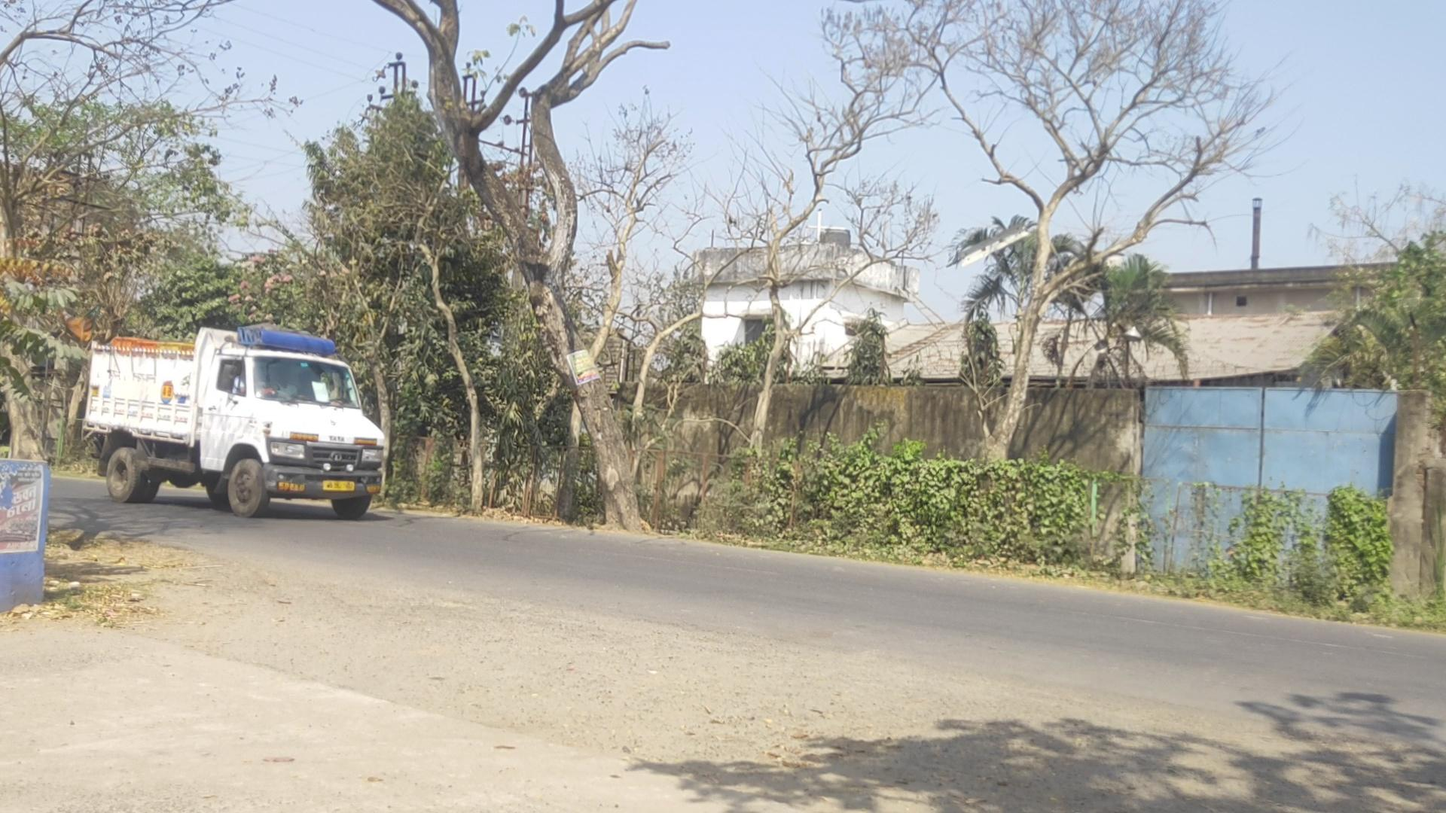truck: (81, 327, 389, 518)
